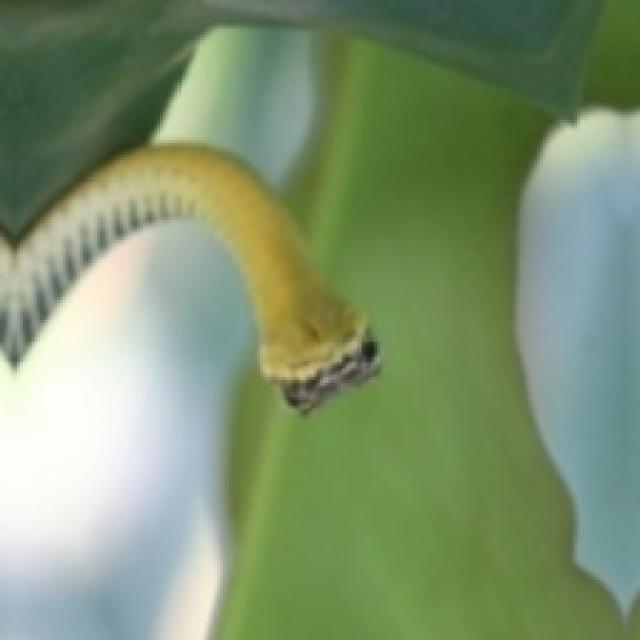paradise tree snake: (0, 143, 377, 409), (0, 146, 377, 409)
